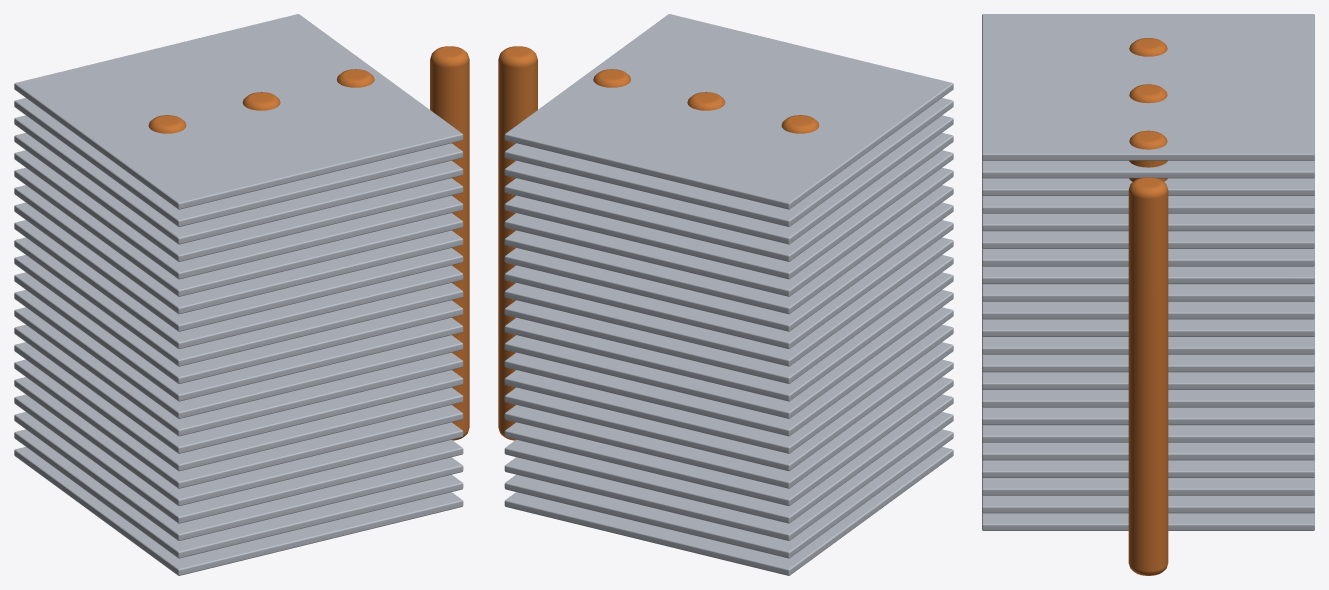
The picture shows the model from 3 angles, left to right: view 1: azimuth 30°, elevation 25°; view 2: azimuth 150°, elevation 25°; view 3: azimuth 270°, elevation 25°; orthographic projection.
Visible parts, largest first — view 1: part_063; view 2: part_063; view 3: part_063.
Boxes of the visible parts, x1,y1,x2,y2 form: part_063: (14,14,469,575); part_063: (498,14,953,575); part_063: (982,14,1314,575).
Bounding box in the file's own units: 0.91 × 0.9 × 0.7.
